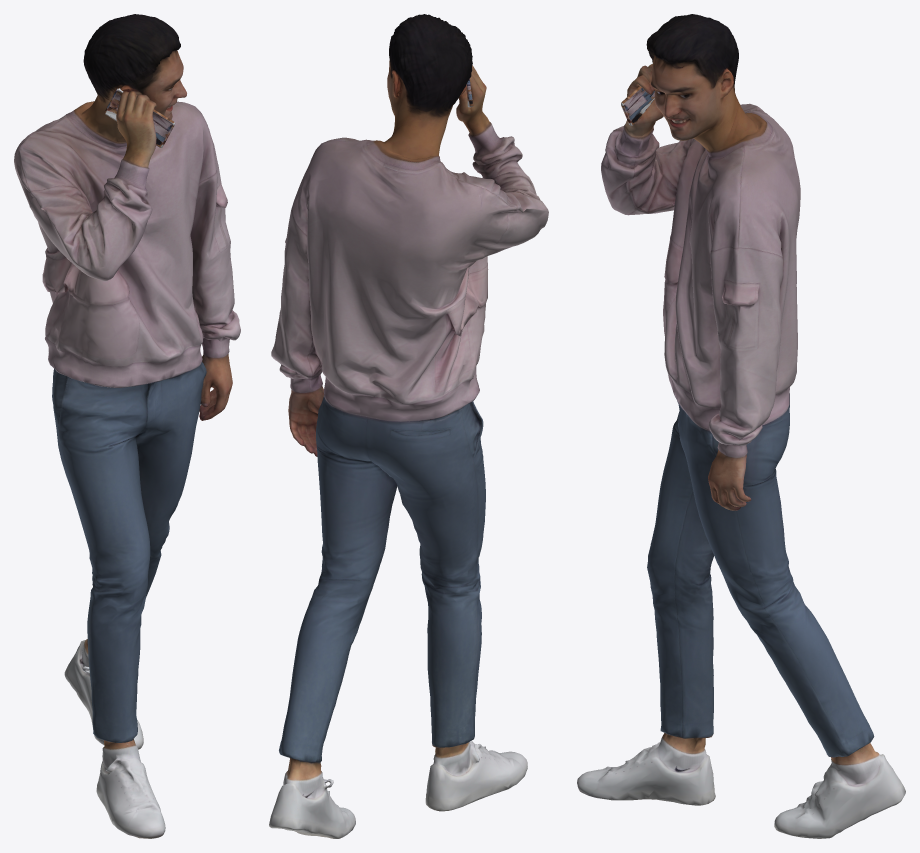
The model's file is man.glb.
The picture shows the model from 3 angles, left to right: view 1: azimuth 30°, elevation 25°; view 2: azimuth 150°, elevation 25°; view 3: azimuth 270°, elevation 25°; orthographic projection. The views are drawn at different scales.
Parts seen in each view (by area): view 1: man; view 2: man; view 3: man.
Boxes of the visible parts, <box> form: man: <box>14,14,240,838</box>; man: <box>269,14,548,838</box>; man: <box>577,14,905,838</box>.
Bounding box in the file's own units: 0.5705 × 1.88 × 0.712.
Materials: 1 (1 with a texture image).
